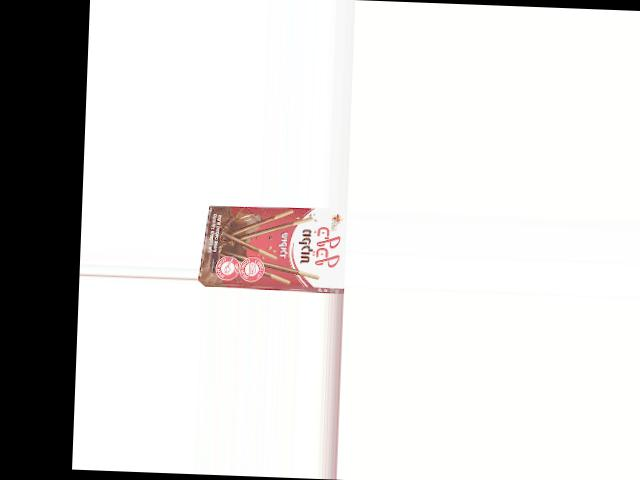chocolate: (207, 203, 347, 292)
